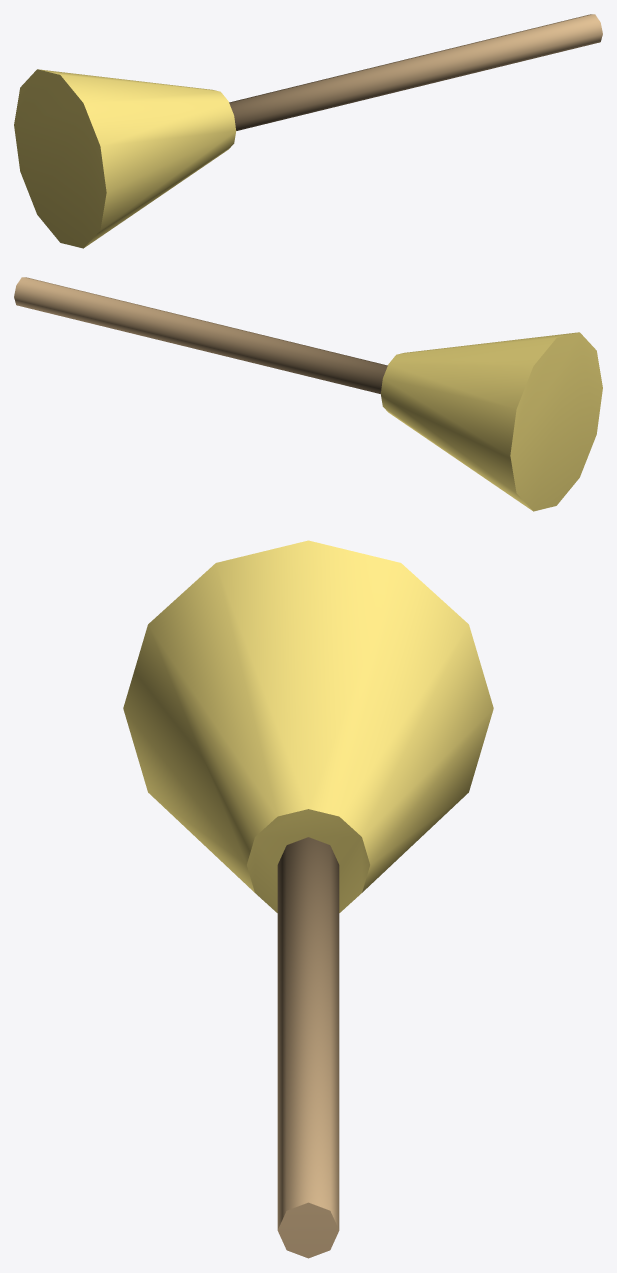
The model's file is Broom.fbx.
The picture shows the model from 3 angles, top to bottom: view 1: azimuth 30°, elevation 25°; view 2: azimuth 150°, elevation 25°; view 3: azimuth 270°, elevation 25°; orthographic projection. The views are drawn at different scales.
Visible parts, largest first — view 1: broom; view 2: broom; view 3: broom.
Part boxes in pixels (x1,y1,x2,y2): broom: [14, 14, 602, 248]; broom: [14, 277, 602, 511]; broom: [123, 540, 493, 1258].
Size of the model in its own units: 1 by 0.3 by 0.3.
